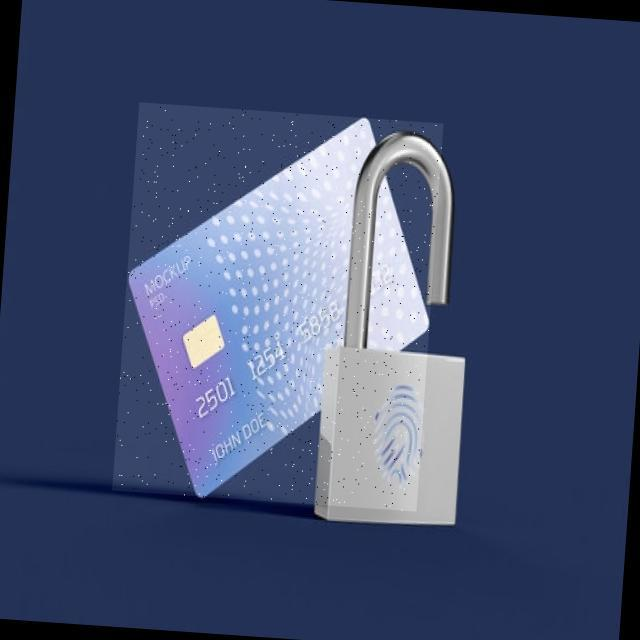payment_card: (117, 105, 441, 502)
